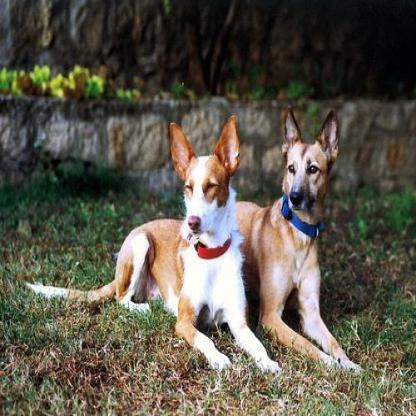dog: (62, 108, 263, 383), (251, 112, 371, 376)
